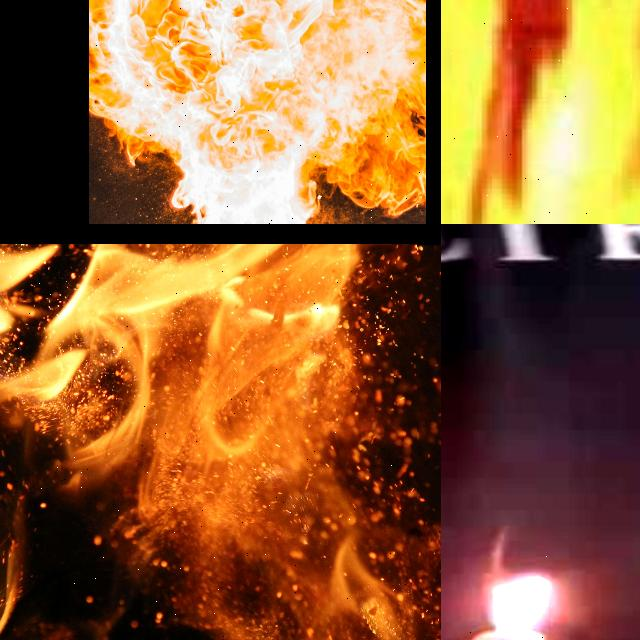fire: (0, 245, 417, 640), (88, 0, 425, 224), (441, 0, 640, 224), (478, 529, 551, 640)
